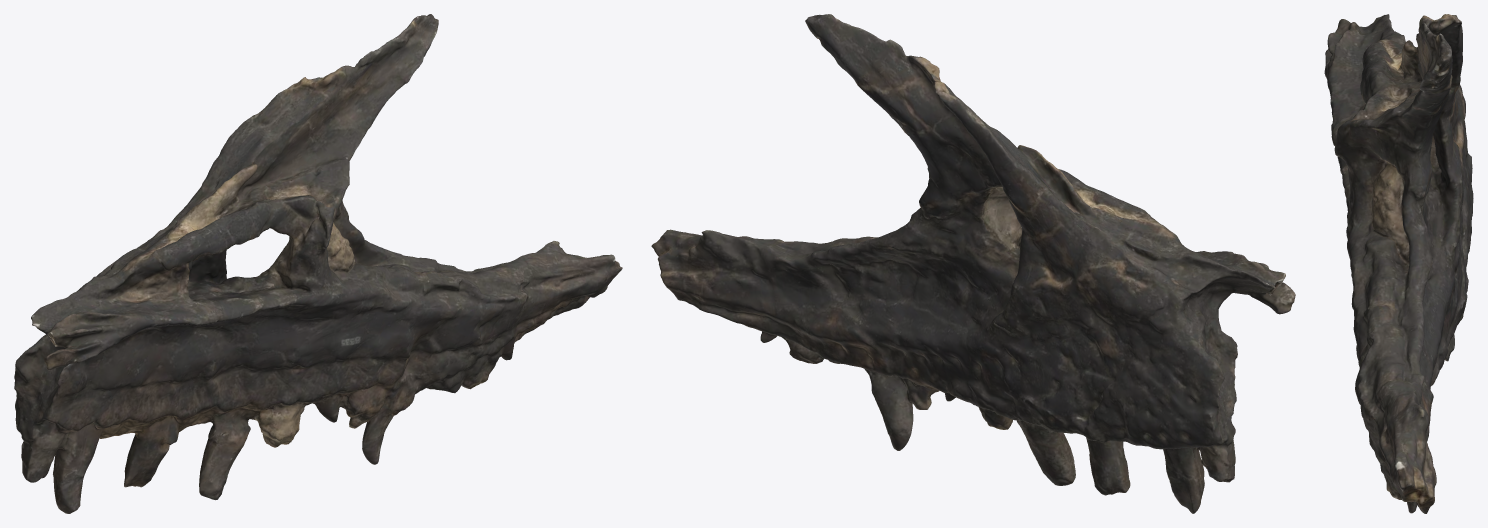
The picture shows the model from 3 angles, left to right: view 1: azimuth 30°, elevation 25°; view 2: azimuth 150°, elevation 25°; view 3: azimuth 270°, elevation 25°; orthographic projection. The views are drawn at different scales.
Parts seen in each view (by area): view 1: Allosaurus_fragilis_Marsh__1877-unwrapped-webmulti; view 2: Allosaurus_fragilis_Marsh__1877-unwrapped-webmulti; view 3: Allosaurus_fragilis_Marsh__1877-unwrapped-webmulti.
Boxes of the visible parts, x1,y1,x2,y2 form: Allosaurus_fragilis_Marsh__1877-unwrapped-webmulti: [14, 14, 622, 513]; Allosaurus_fragilis_Marsh__1877-unwrapped-webmulti: [651, 14, 1295, 513]; Allosaurus_fragilis_Marsh__1877-unwrapped-webmulti: [1324, 14, 1473, 513].
Size of the model in its own units: 11582 by 7802 by 2061.
Materials: 1 (1 with a texture image).
